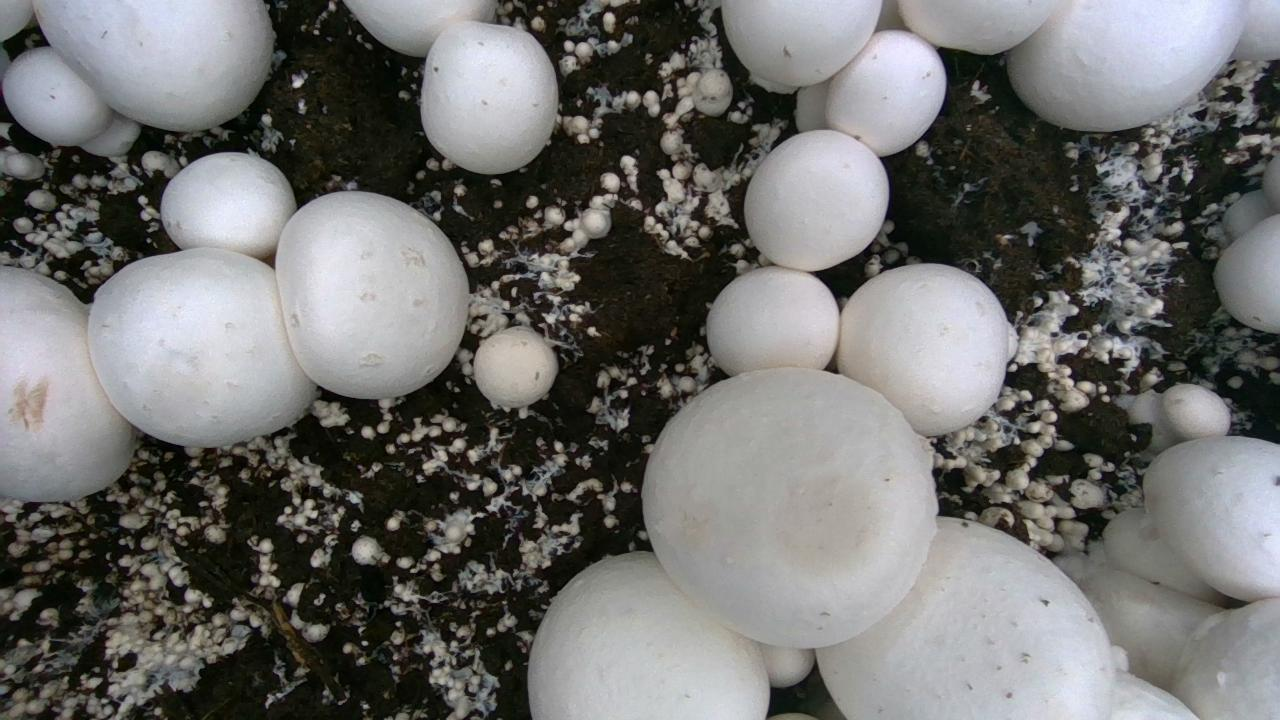WB: (642, 368, 937, 647), (816, 518, 1114, 718), (88, 248, 314, 446), (528, 552, 769, 719), (275, 191, 468, 398), (1007, 0, 1248, 131), (34, 0, 274, 130), (837, 264, 1010, 435), (1143, 436, 1279, 601), (420, 21, 557, 173), (744, 130, 888, 271), (1078, 568, 1219, 690), (825, 30, 946, 156), (707, 266, 839, 375), (161, 152, 296, 258), (721, 0, 881, 86), (1172, 598, 1279, 719), (1103, 509, 1226, 606), (2, 47, 112, 145), (898, 0, 1057, 54), (344, 0, 495, 56), (1213, 214, 1279, 333), (473, 327, 557, 408), (1110, 671, 1198, 719), (1162, 384, 1230, 439)
